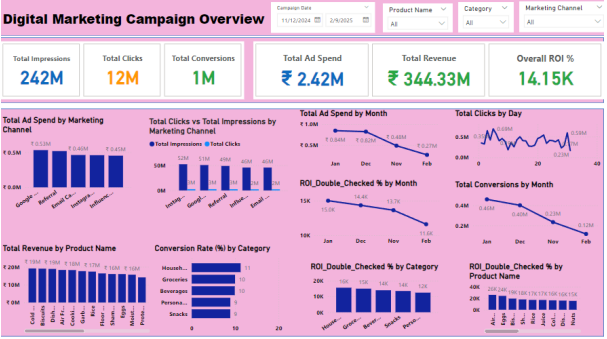

This screenshot's page, from the dashboard's own definition file:
{"tool":"powerbi","page":{"name":"DASHBOARD","canvas":[1280,720],"ordinal":0},"visuals":[{"type":"shape","box":[0,8.6,1280,78.5],"z":0},{"type":"textbox","box":[0,26.7,805.3,53.3],"z":1000},{"type":"shape","box":[0,240,1270,480],"z":2000},{"type":"shape","box":[0,90,1270,138.3],"z":3000},{"type":"slicer","fields":{"Values":["marketing.Campaign Date"]},"box":[569.3,16,218.7,65.3],"z":4000},{"type":"slicer","fields":{"Values":["marketing.Product Name"]},"box":[805.3,18.7,146.7,61.3],"z":5000},{"type":"slicer","fields":{"Values":["marketing.Category"]},"box":[963.2,15.7,117,64.2],"z":6000},{"type":"slicer","fields":{"Values":["marketing.Marketing Channel"]},"box":[1092,14.7,188,65.3],"z":7000},{"type":"cardVisual","fields":{"Data":["marketing.Total Ad Spend","marketing.Total Revenue","marketing.Overall ROI"]},"box":[569.3,98,701,121.5],"z":8000},{"type":"cardVisual","fields":{"Data":["marketing.Total Impressions","marketing.Total Clicks","marketing.Total Conversions"]},"box":[0,98,553.2,121.5],"z":9000},{"type":"columnChart","fields":{"Category":["marketing.Marketing Channel"],"Y":["marketing.Total Ad Spend"]},"box":[0,253.3,280,211.7],"z":10000},{"type":"clusteredColumnChart","title":"Total Clicks vs Total Impressions by Marketing Channel","fields":{"Y":["marketing.Total Impressions","marketing.Total Clicks"],"Category":["marketing.Marketing Channel"]},"box":[308.2,256.9,303.9,208.3],"z":11000},{"type":"barChart","fields":{"Category":["marketing.Category"],"Y":["marketing.Conversion Rate (%)"]},"box":[320,523.3,281.7,196.7],"z":12000},{"type":"columnChart","fields":{"Category":["marketing.Product Name"],"Y":["marketing.Total Revenue"]},"box":[0,523.3,320,193.3],"z":13000},{"type":"lineChart","fields":{"Category":["Date_Table.Day"],"Y":["marketing.Total Clicks"]},"box":[951.7,240,318.3,133.3],"z":14000},{"type":"lineChart","fields":{"Y":["marketing.Total Ad Spend"],"Category":["Date_Table.Month"]},"box":[625,240,303.3,133.3],"z":15000},{"type":"lineChart","fields":{"Category":["Date_Table.Month"],"Y":["marketing.Total Conversions"]},"box":[951.7,390,313.3,148.3],"z":16000},{"type":"lineChart","fields":{"Category":["Date_Table.Month"],"Y":["marketing.ROI_Double_Check"]},"box":[625,386.7,303.3,150],"z":17000},{"type":"columnChart","fields":{"Category":["marketing.Product Name"],"Y":["marketing.ROI_Double_Check"]},"box":[981.7,561.7,245,155],"z":18000},{"type":"clusteredColumnChart","fields":{"Category":["marketing.Category"],"Y":["marketing.ROI_Double_Check"]},"box":[648.3,561.7,280,158.3],"z":19000}]}

Visuals, with their boxes in screenshot pixels (x1, y1, x2, y2), scaled from the page's 1280x720 canvas onto the 607x339 screenshot:
shape: bbox(0, 4, 606, 41)
textbox: bbox(0, 13, 382, 38)
shape: bbox(0, 113, 602, 338)
shape: bbox(0, 42, 602, 107)
slicer - marketing.Campaign Date: bbox(270, 8, 374, 38)
slicer - marketing.Product Name: bbox(382, 9, 451, 38)
slicer - marketing.Category: bbox(457, 7, 512, 38)
slicer - marketing.Marketing Channel: bbox(518, 7, 606, 38)
cardVisual - marketing.Total Ad Spend x marketing.Total Revenue: bbox(270, 46, 602, 103)
cardVisual - marketing.Total Impressions x marketing.Total Clicks: bbox(0, 46, 262, 103)
columnChart - marketing.Marketing Channel x marketing.Total Ad Spend: bbox(0, 119, 133, 219)
"Total Clicks vs Total Impressions by Marketing Channel" clusteredColumnChart: bbox(146, 121, 290, 219)
barChart - marketing.Category x marketing.Conversion Rate (%): bbox(152, 246, 285, 338)
columnChart - marketing.Product Name x marketing.Total Revenue: bbox(0, 246, 152, 337)
lineChart - Date_Table.Day x marketing.Total Clicks: bbox(451, 113, 602, 176)
lineChart - marketing.Total Ad Spend x Date_Table.Month: bbox(296, 113, 440, 176)
lineChart - Date_Table.Month x marketing.Total Conversions: bbox(451, 184, 600, 253)
lineChart - Date_Table.Month x marketing.ROI_Double_Check: bbox(296, 182, 440, 253)
columnChart - marketing.Product Name x marketing.ROI_Double_Check: bbox(466, 264, 582, 337)
clusteredColumnChart - marketing.Category x marketing.ROI_Double_Check: bbox(307, 264, 440, 338)
